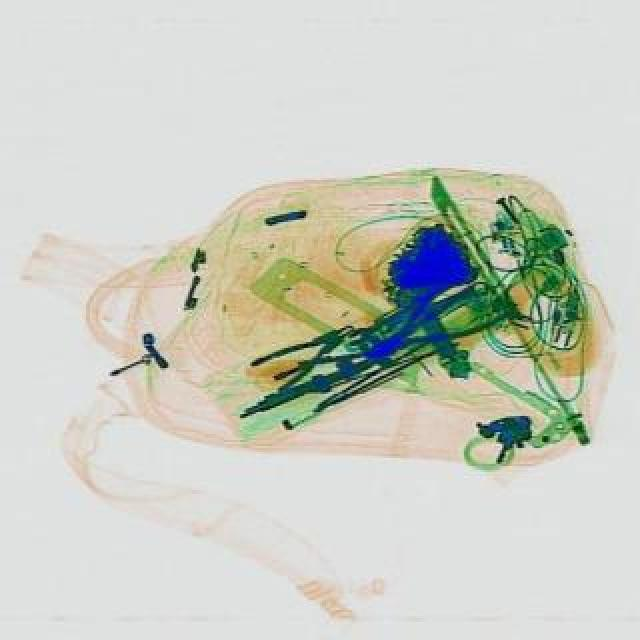scissors: (370, 276, 488, 336), (344, 292, 426, 348)
wrench: (350, 262, 508, 382), (246, 308, 364, 396)
